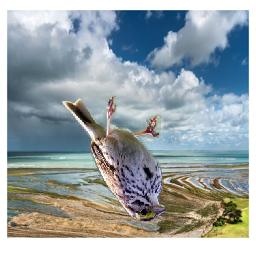Sparrow: (61, 96, 167, 223)
